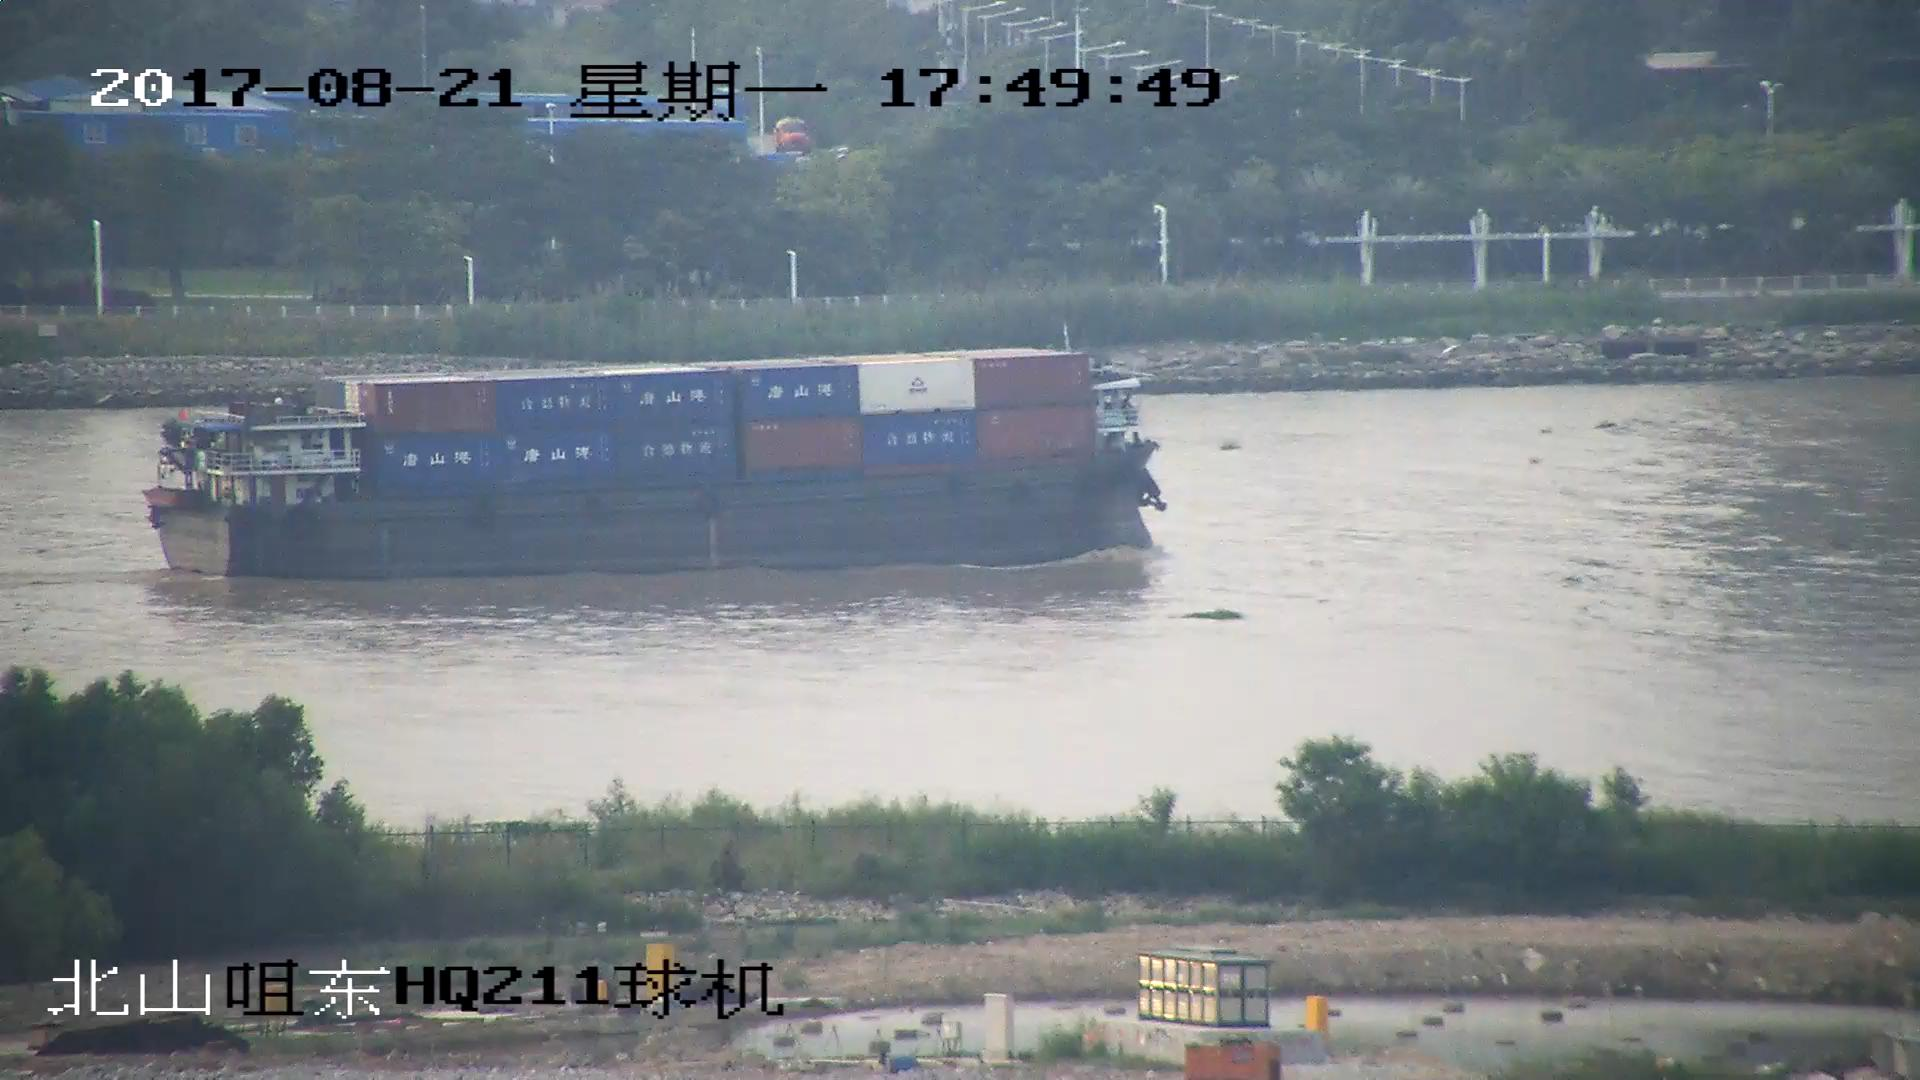container ship: (143, 342, 1164, 578)
